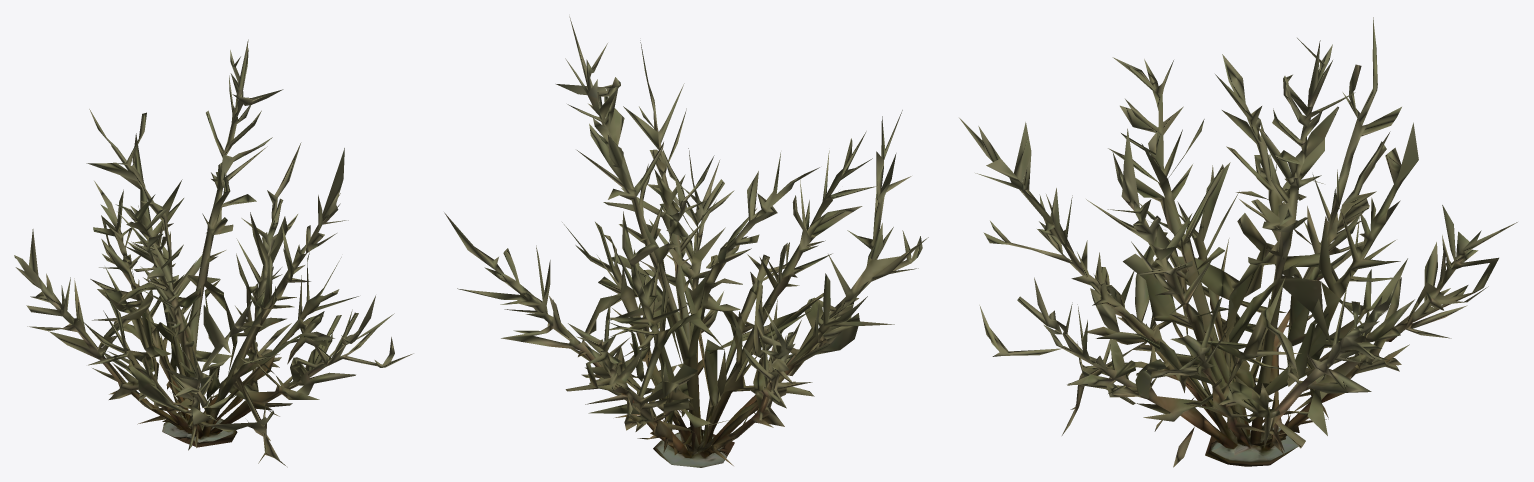
File: shrub.glb
The picture shows the model from 3 angles, left to right: view 1: azimuth 30°, elevation 25°; view 2: azimuth 150°, elevation 25°; view 3: azimuth 270°, elevation 25°; orthographic projection. The views are drawn at different scales.
Parts seen in each view (by area): view 1: tripo_node_76d9b599-fcb6-41e4-93cb-0270e6a76b8f; view 2: tripo_node_76d9b599-fcb6-41e4-93cb-0270e6a76b8f; view 3: tripo_node_76d9b599-fcb6-41e4-93cb-0270e6a76b8f.
Boxes of the visible parts, x1,y1,x2,y2 form: tripo_node_76d9b599-fcb6-41e4-93cb-0270e6a76b8f: (14,39,413,467); tripo_node_76d9b599-fcb6-41e4-93cb-0270e6a76b8f: (444,16,928,467); tripo_node_76d9b599-fcb6-41e4-93cb-0270e6a76b8f: (959,17,1517,467).
Size of the model in its own units: 0.7937 by 0.9494 by 1.
Materials: 1 (1 with a texture image).
